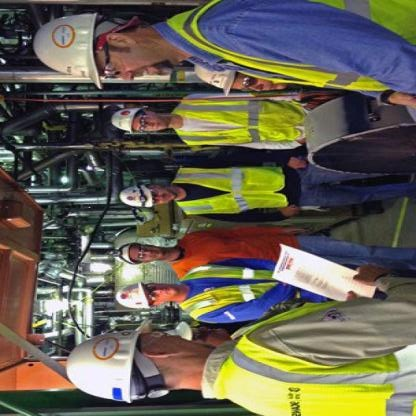vest: (207, 299, 402, 415), (172, 6, 406, 94), (167, 93, 309, 151), (168, 263, 292, 323), (164, 160, 288, 218)
white: (62, 315, 153, 409), (29, 9, 116, 90), (188, 62, 240, 95), (110, 278, 154, 314), (108, 102, 145, 140), (112, 182, 158, 211), (104, 238, 141, 266), (157, 319, 198, 342)
